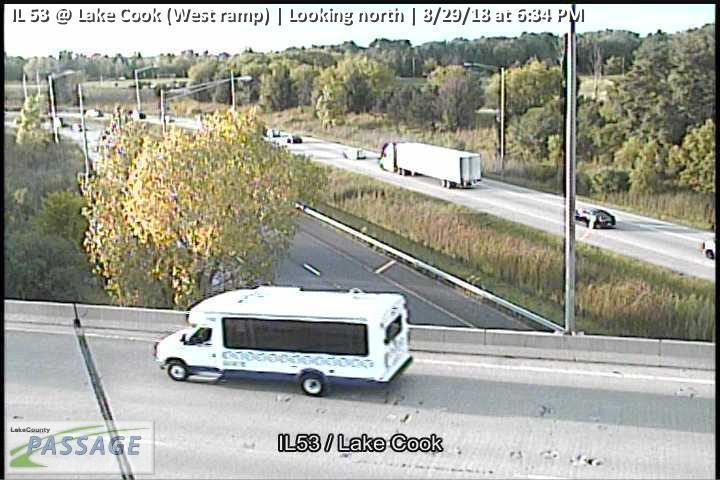SUV: (153, 284, 414, 398)
Sedan: (573, 207, 617, 229)
Truck: (378, 141, 482, 189)
